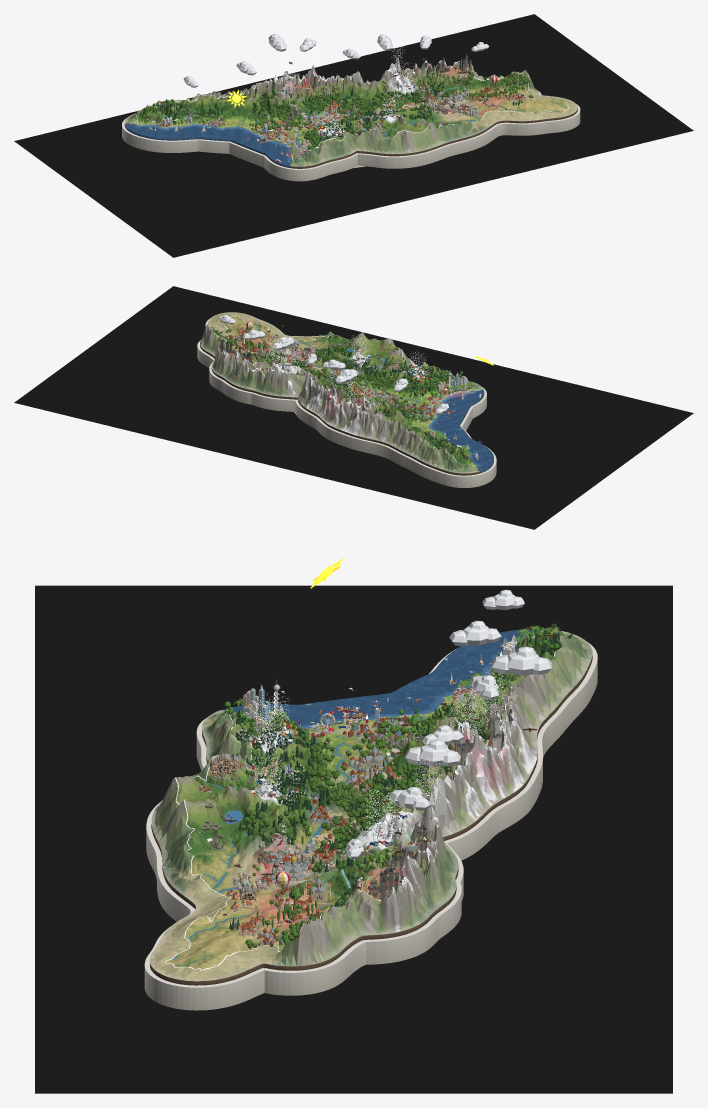
File: georgia.glb
3 views of the same model, one above another, from view 1: azimuth 30°, elevation 25°; view 2: azimuth 150°, elevation 25°; view 3: azimuth 270°, elevation 25° (orthographic). The views are drawn at different scales.
Visible parts, largest first — view 1: ContactShadow, Land, Frame, Surround, Sea, Scenery_Kutaisi_Static, Scenery_Uplistsikhe_Static, BorderLine, Scenery_Lagodekhi_Static, Scenery_Chiatura_Static; view 2: ContactShadow, Surround, Land, Frame, Sea, Scenery_Kutaisi_Static, Scenery_Uplistsikhe_Static, Scenery_BorjomiPark_Static; view 3: ContactShadow, Surround, Land, Frame, Sea, Scenery_Kutaisi_Static, Scenery_Uplistsikhe_Static, Scenery_BorjomiPark_Static, Tbilisi_Static, Cloud2, Georgia_River, Cloud4 (+6 smaller).
Boxes of the visible parts, <box> form: ContactShadow: <box>14,14,693,257</box>; Land: <box>137,58,568,158</box>; Frame: <box>122,91,580,181</box>; Surround: <box>124,60,577,166</box>; Sea: <box>124,123,292,166</box>; Scenery_Kutaisi_Static: <box>284,95,364,135</box>; Scenery_Uplistsikhe_Static: <box>370,91,432,119</box>; BorderLine: <box>136,60,568,159</box>; Scenery_Lagodekhi_Static: <box>495,72,533,99</box>; Scenery_Chiatura_Static: <box>335,94,370,119</box>; ContactShadow: <box>14,286,693,529</box>; Surround: <box>200,312,483,473</box>; Land: <box>212,314,476,466</box>; Frame: <box>197,319,496,487</box>; Sea: <box>428,389,493,471</box>; Scenery_Kutaisi_Static: <box>344,369,419,410</box>; Scenery_Uplistsikhe_Static: <box>292,345,355,378</box>; Scenery_BorjomiPark_Static: <box>344,350,380,381</box>; ContactShadow: <box>35,585,672,1093</box>; Surround: <box>149,631,592,981</box>; Land: <box>166,627,565,970</box>; Frame: <box>144,642,597,1010</box>; Sea: <box>223,629,534,728</box>; Scenery_Kutaisi_Static: <box>284,726,423,799</box>; Scenery_Uplistsikhe_Static: <box>238,786,379,852</box>; Scenery_BorjomiPark_Static: <box>250,764,330,811</box>; Tbilisi_Static: <box>233,837,314,892</box>; Cloud2: <box>492,646,551,675</box>; Georgia_River: <box>172,695,466,966</box>; Cloud4: <box>405,739,460,766</box>.
Bounding box in the file's own units: 12.86 × 2.49 × 6.82.
Materials: 155 (1 with a texture image).
